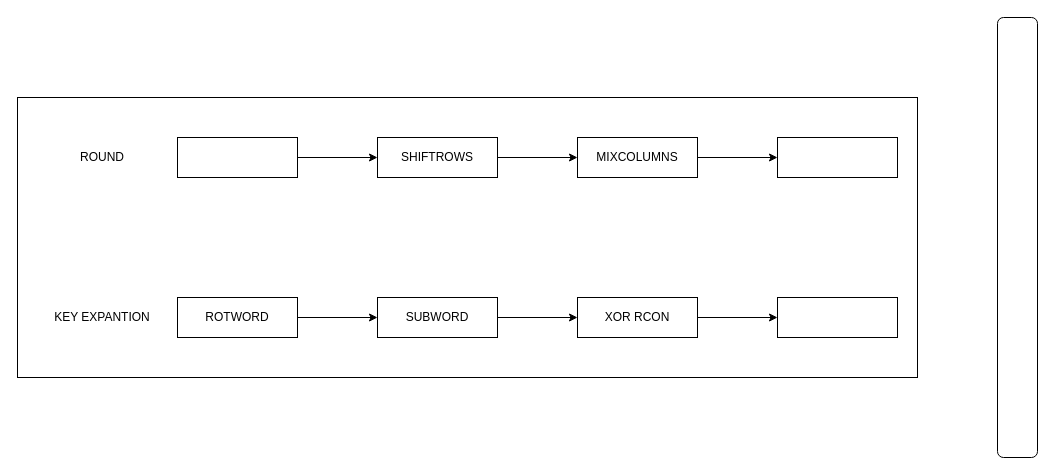
Image size: 1055x475. Some labels were removed from this diagram. Here are the shapes that lost their labels. From the top down, the centre of each, then its label:
At point 237,157: "SUBBYTES".
At point 837,157: "ADDROUNDKEY".
At point 837,317: "UPDATE KEY".
